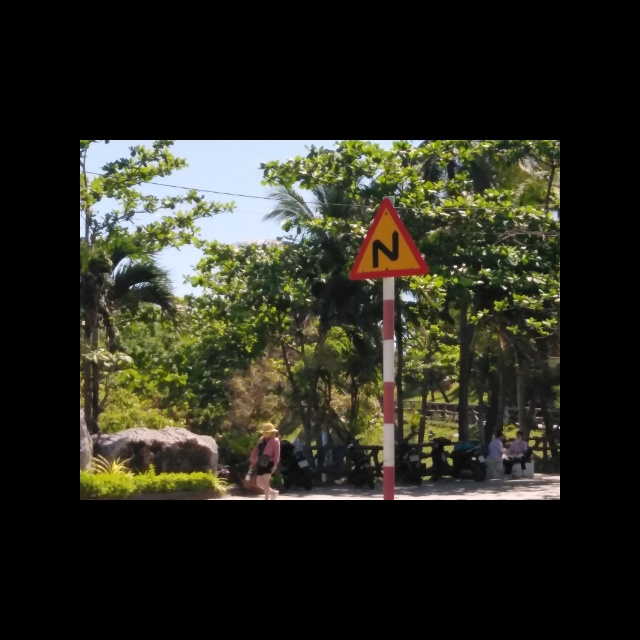Ngoặt nguy hiểm liên tiếp bên phải: (348, 195, 429, 280)
